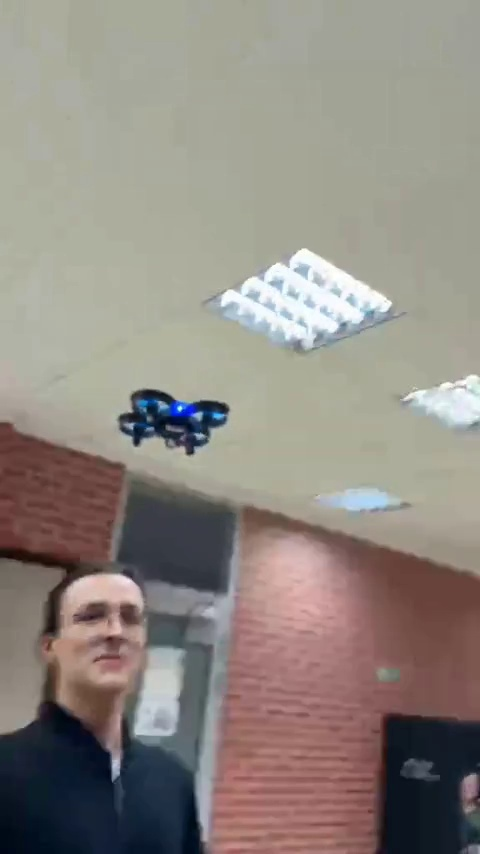drone: (114, 391, 224, 450)
no vest: (12, 572, 198, 854)
